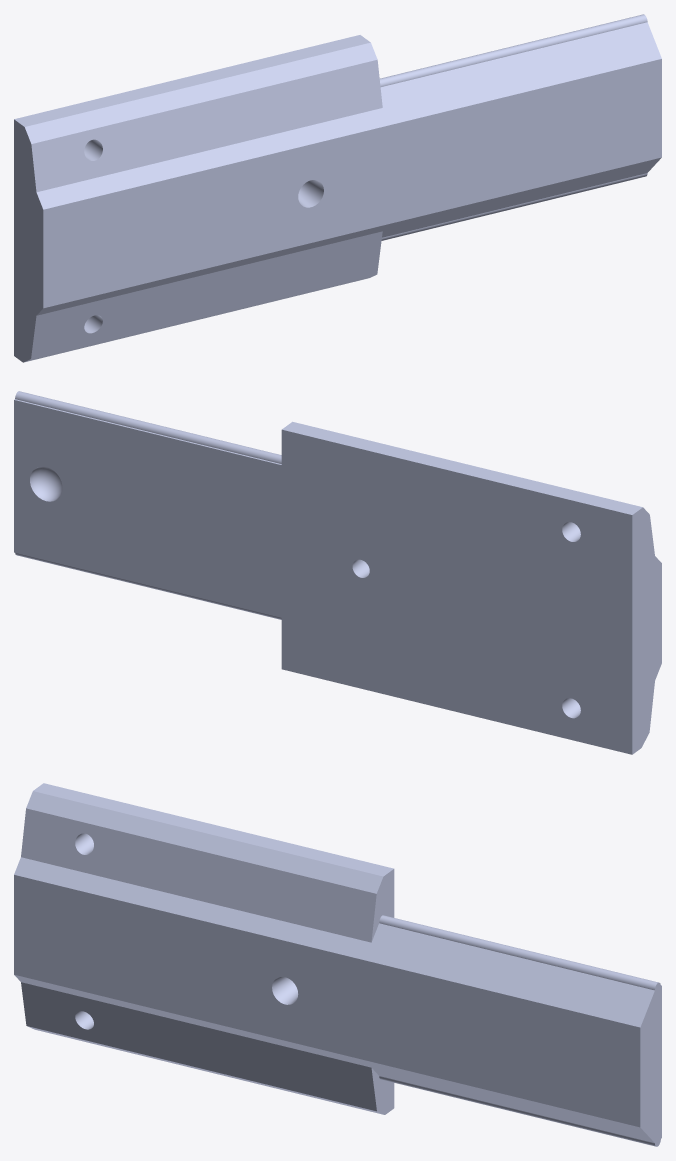
File: soporteBateria.glb
The picture shows the model from 3 angles, top to bottom: view 1: azimuth 30°, elevation 25°; view 2: azimuth 150°, elevation 25°; view 3: azimuth 330°, elevation 25°; orthographic projection.
Visible parts, largest first — view 1: soporteBateria; view 2: soporteBateria; view 3: soporteBateria.
Part boxes in pixels (box(x1,y1,x2,y2)): soporteBateria: box(14, 14, 661, 362); soporteBateria: box(14, 391, 661, 754); soporteBateria: box(14, 783, 661, 1146).
Size of the model in its own units: 0.067 by 0.0245 by 0.0055.
